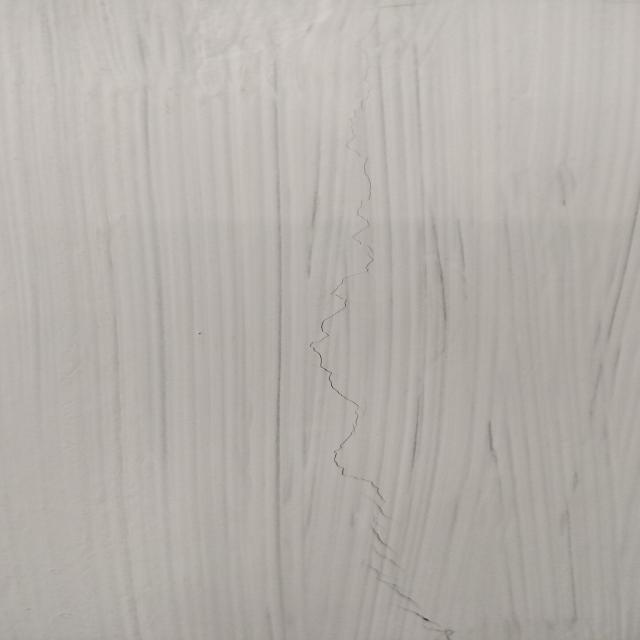Crack: (295, 107, 470, 638)
